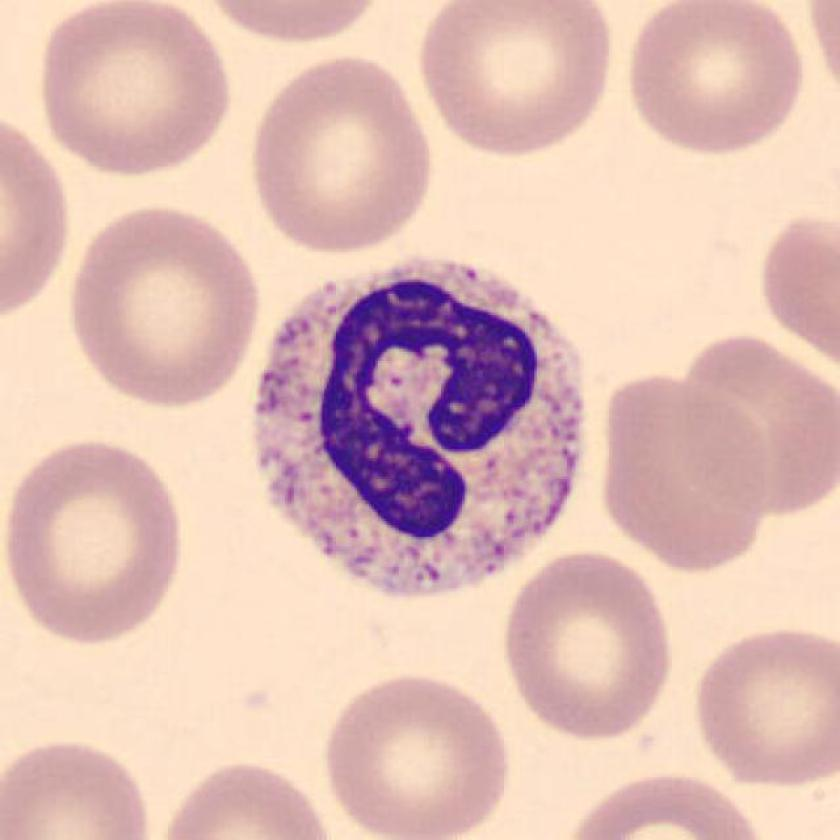neutrophil: (253, 260, 581, 598)
